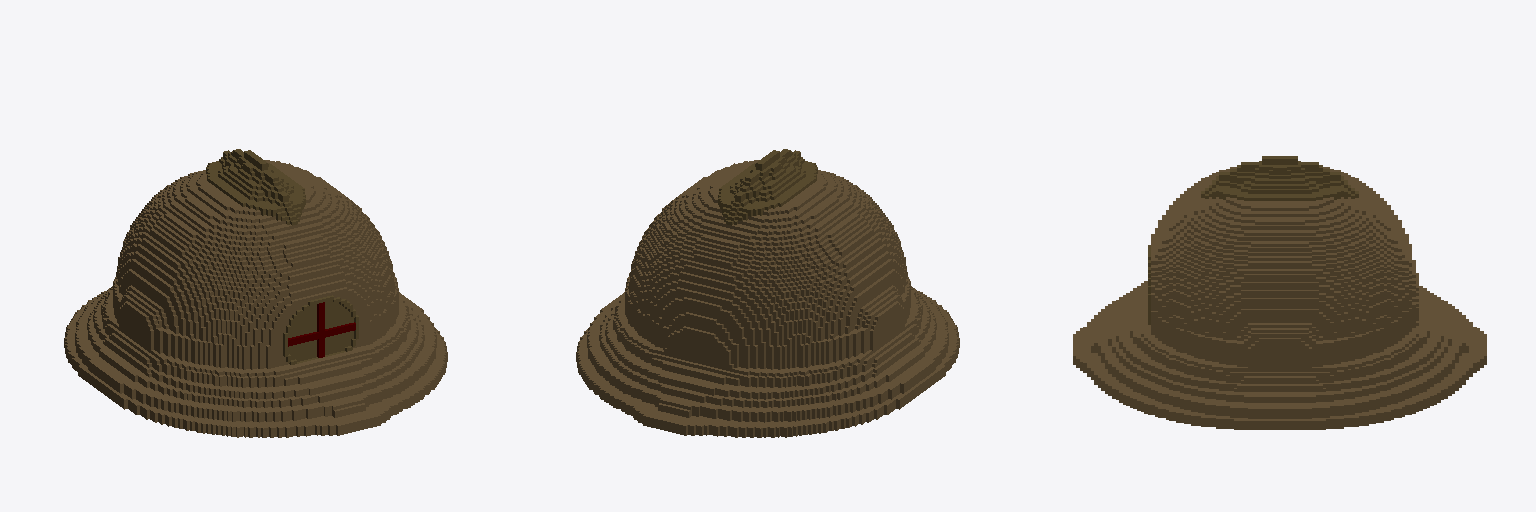
3 views of the same model, side by side, from view 1: azimuth 30°, elevation 25°; view 2: azimuth 150°, elevation 25°; view 3: azimuth 270°, elevation 25° (orthographic).
Parts seen in each view (by area): view 1: object 1; view 2: object 1; view 3: object 1.
Part boxes in pixels (x1,y1,x2,y2): object 1: (64, 149, 447, 437); object 1: (576, 149, 959, 437); object 1: (1073, 156, 1486, 429).
Size of the model in its own units: 10 by 6.1 by 11.6.
Materials: 1 (1 with a texture image).